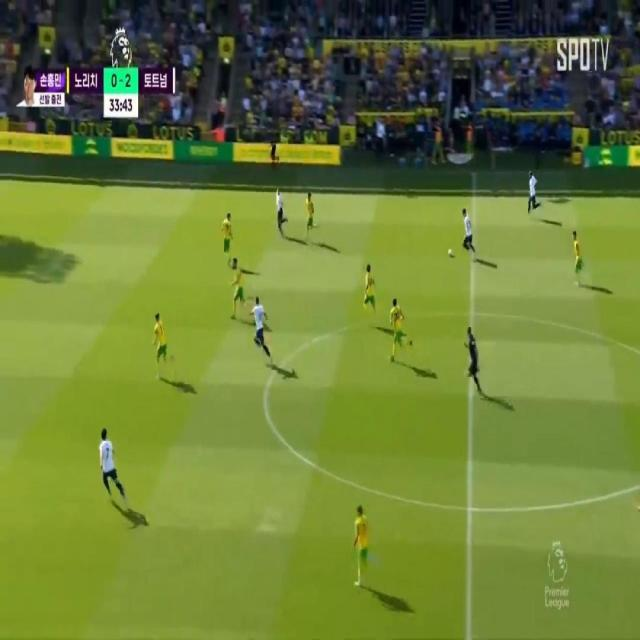ball: (444, 242, 457, 264)
player: (95, 428, 118, 502), (388, 297, 406, 368), (153, 307, 170, 378), (355, 506, 371, 577), (458, 206, 478, 260), (363, 262, 380, 320), (274, 186, 290, 245), (570, 226, 587, 281), (251, 294, 267, 351), (525, 169, 542, 220), (231, 254, 244, 318), (221, 208, 235, 254), (305, 191, 318, 236)
referee: (465, 327, 481, 389), (268, 132, 281, 177)
